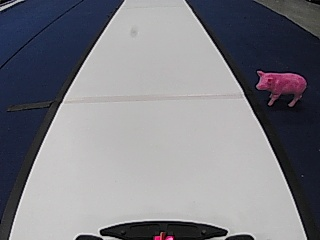pig: (253, 67, 307, 106)
